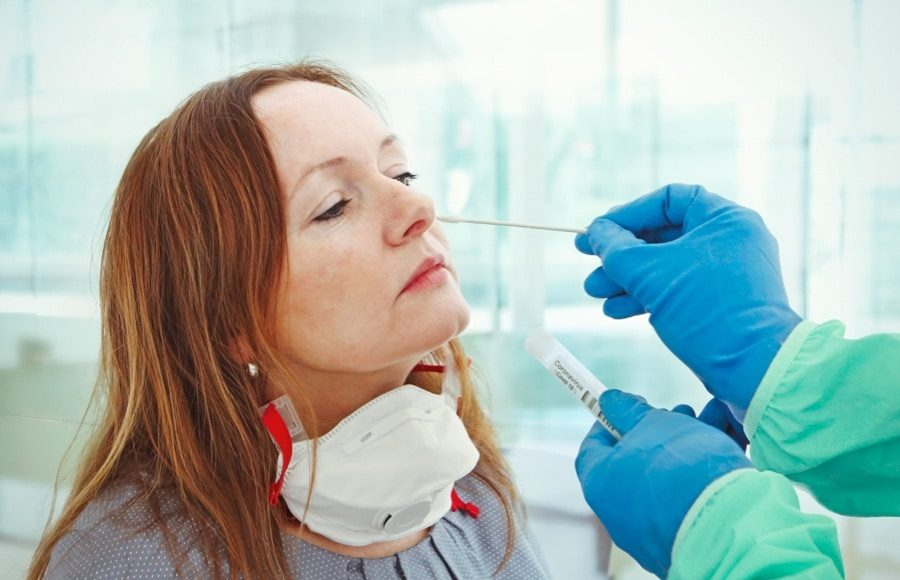without_mask: (286, 150, 463, 351)
